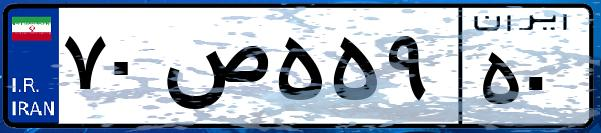0: (525, 38, 570, 115), (110, 28, 158, 98)
5: (270, 28, 330, 110), (330, 28, 385, 110), (475, 38, 525, 113)
7: (57, 26, 110, 100)
9: (385, 28, 445, 110)
ص: (158, 20, 270, 120)
